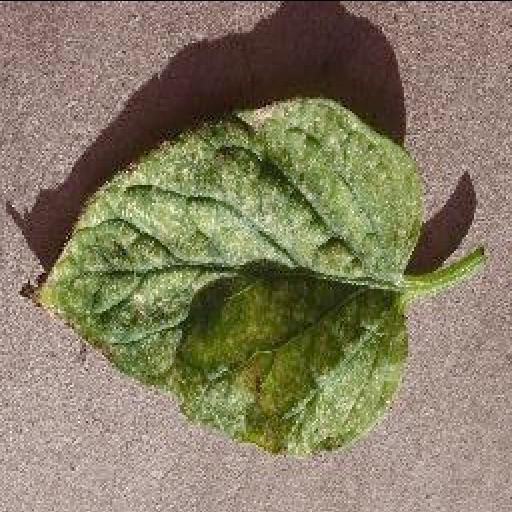disease_tomato: (30, 98, 424, 456)
